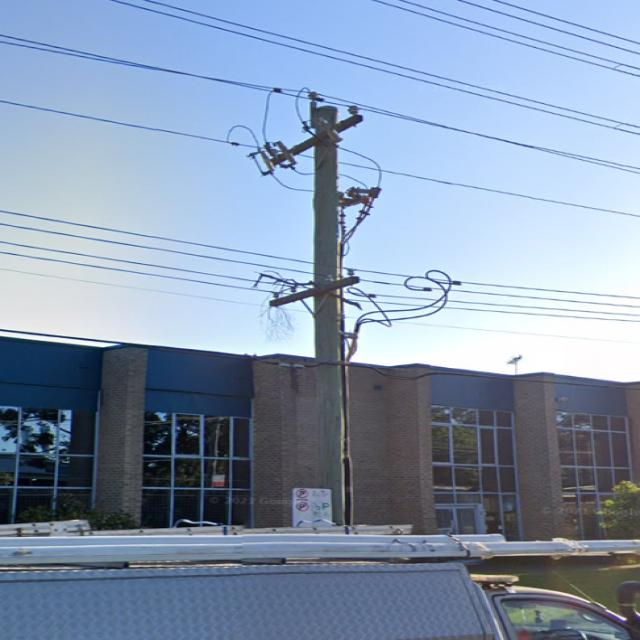HV-transmission: (247, 92, 363, 174)
crossarm: (264, 113, 362, 168), (268, 274, 359, 307)
timber-pole: (310, 107, 352, 524)
